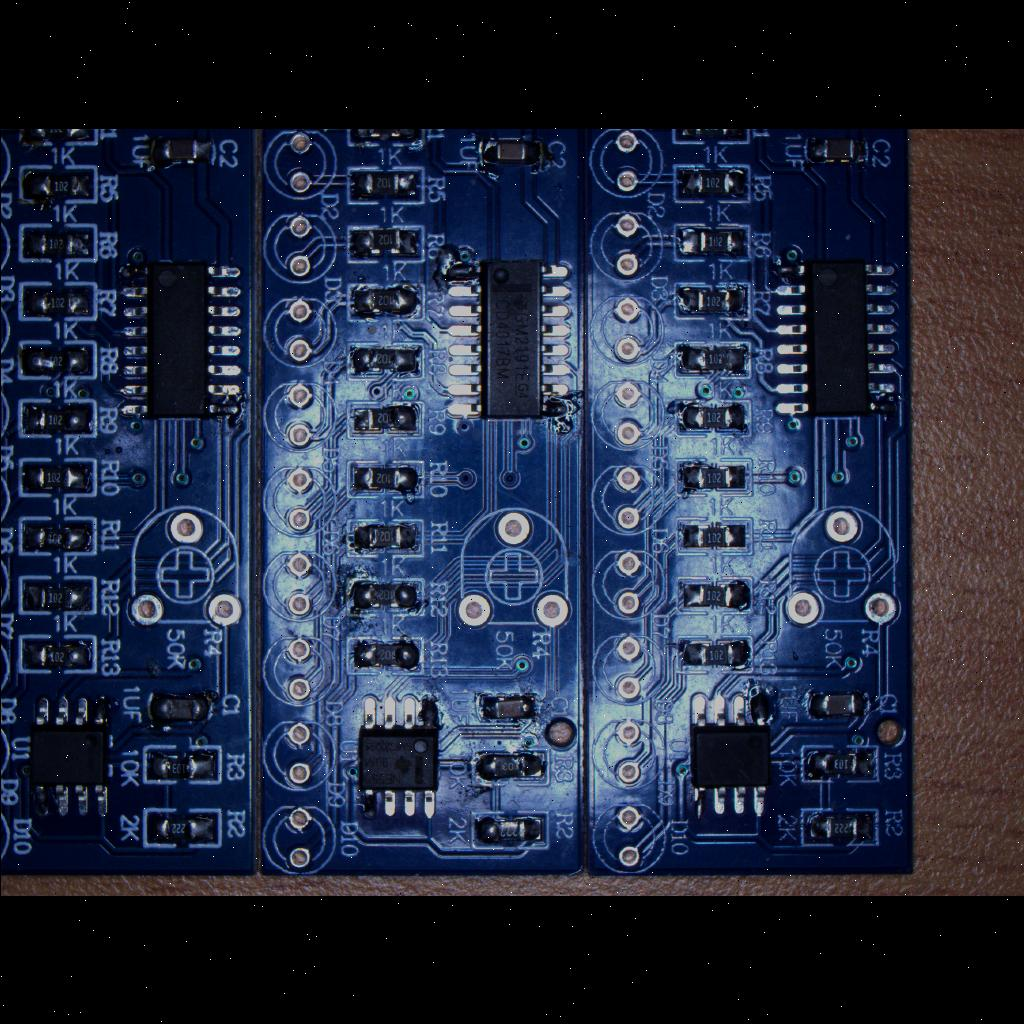OK: (430, 249, 578, 429), (105, 250, 251, 430), (766, 252, 906, 424), (352, 692, 446, 826), (678, 687, 772, 821), (136, 682, 218, 732), (14, 160, 100, 206), (16, 218, 100, 264), (140, 804, 224, 850), (342, 514, 426, 560), (16, 572, 98, 618), (140, 740, 222, 786), (14, 337, 98, 381), (16, 632, 100, 676), (14, 395, 98, 439), (670, 278, 754, 322), (16, 454, 96, 500), (17, 513, 99, 557), (343, 338, 425, 382), (344, 279, 426, 323), (673, 513, 755, 557), (342, 457, 426, 499), (342, 222, 426, 264), (17, 278, 97, 322), (469, 809, 551, 851), (343, 576, 425, 618), (344, 635, 426, 677), (673, 574, 755, 616), (800, 807, 880, 849), (672, 163, 752, 205), (470, 746, 550, 788), (672, 338, 752, 380), (798, 684, 874, 728), (670, 222, 752, 262), (799, 744, 881, 784), (672, 634, 754, 674), (676, 456, 754, 498), (472, 132, 550, 174), (345, 400, 425, 440), (674, 399, 752, 439), (143, 132, 219, 172), (468, 688, 544, 726), (347, 167, 419, 201)
